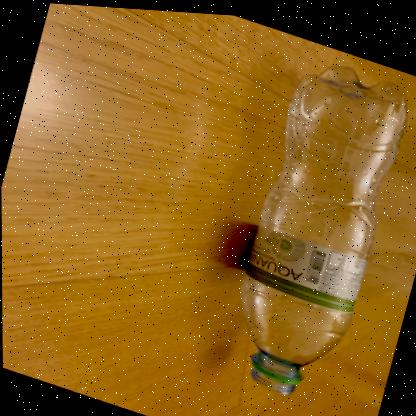Plastic: (239, 60, 405, 391)
